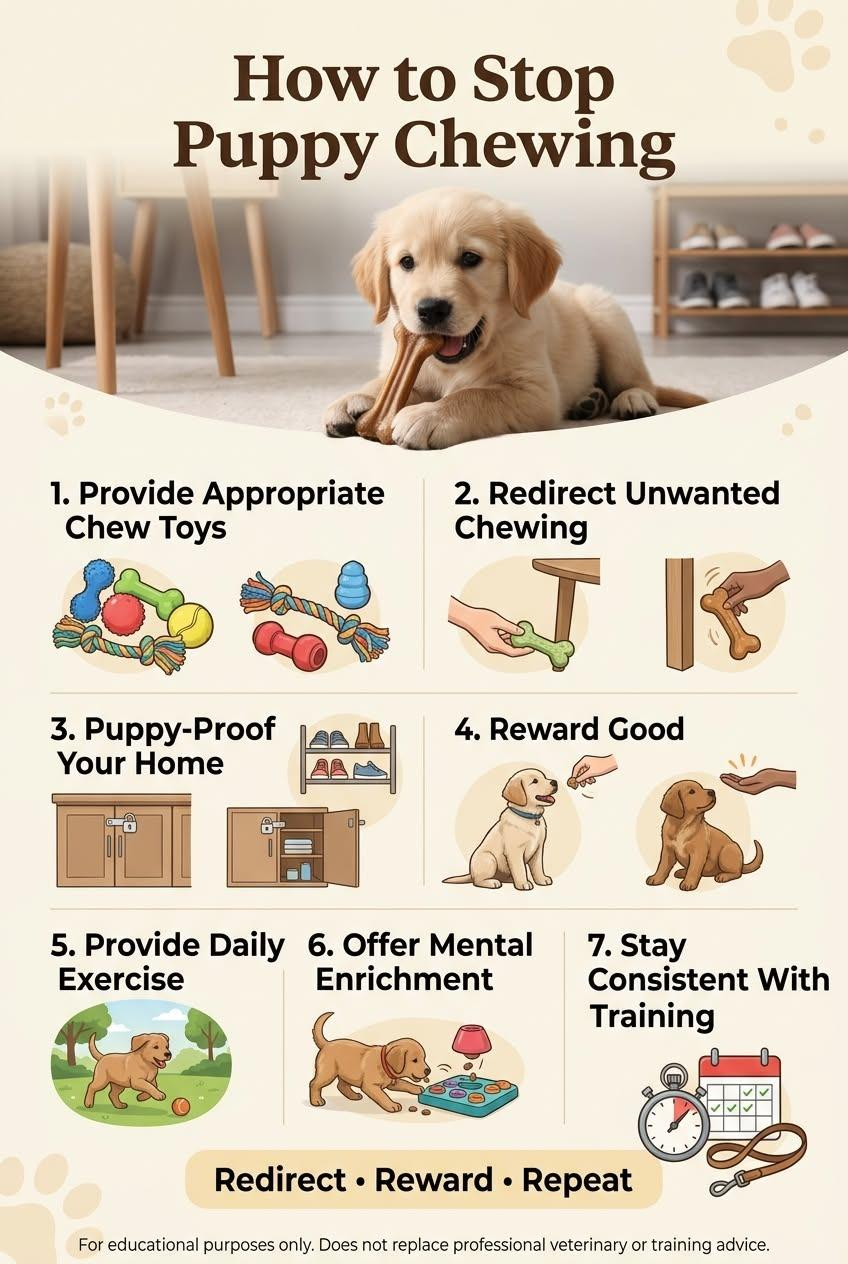adult_dog: (309, 1010, 432, 1113), (82, 1032, 173, 1110)
puppy-dog: (323, 184, 716, 451), (442, 767, 559, 892), (646, 780, 766, 891)
